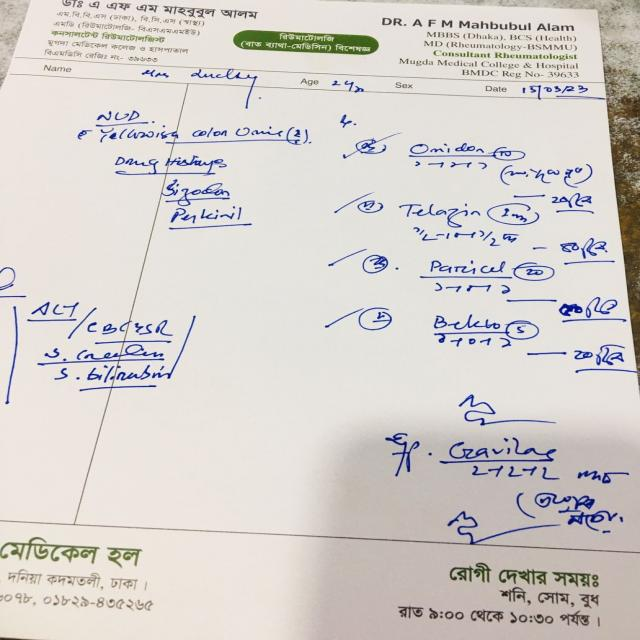Beklo: (420, 307, 510, 336)
Gavilac: (445, 434, 558, 467)
Omidon: (402, 136, 495, 158)
Paricel: (420, 252, 513, 278)
Telazine: (393, 196, 487, 228)
